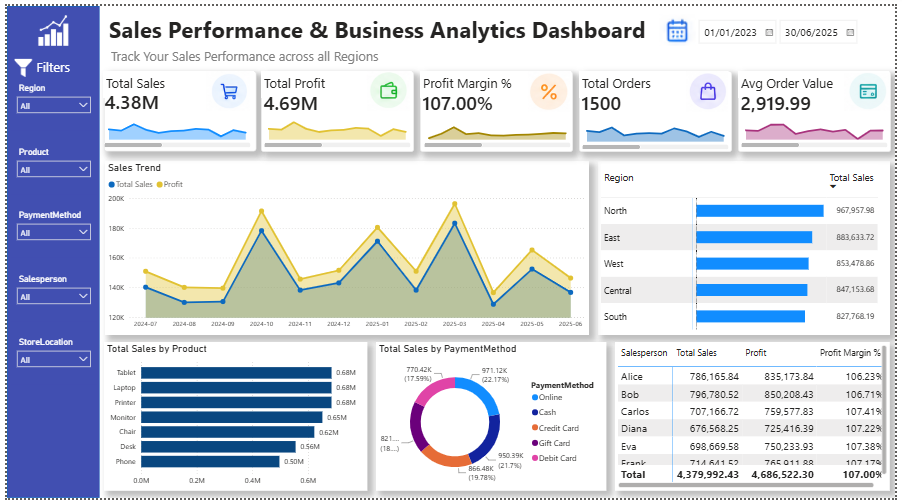

Layout of this report page (visuals, bound fields, positions):
{"tool":"powerbi","page":{"name":"Page 1","canvas":[1480,820],"ordinal":0},"visuals":[{"type":"textbox","box":[165.6,8.2,915.1,65.6],"z":0},{"type":"textbox","box":[167.5,63.7,727.3,44.6],"z":1000},{"type":"shape","box":[0,0,154.4,819.6],"z":2000},{"type":"shape","box":[161.2,108.8,254.4,134],"z":3000},{"type":"shape","box":[422.9,108.2,254.6,135.3],"z":4000},{"type":"shape","box":[688.3,108.2,254.6,135.3],"z":5000},{"type":"shape","box":[953.6,108.2,254.6,135.3],"z":6000},{"type":"shape","box":[1219,108.2,254.6,135.3],"z":7000},{"type":"textbox","box":[159.3,108.8,223.4,44.7],"z":8000},{"type":"textbox","box":[423.3,108.2,222.8,44.6],"z":9000},{"type":"textbox","box":[689.1,108.2,222.8,44.6],"z":10000},{"type":"textbox","box":[953.2,108.2,222.8,44.6],"z":11000},{"type":"textbox","box":[1219,108.2,222.8,44.6],"z":12000},{"type":"cardVisual","fields":{"Data":["Measure.Total Sales"]},"box":[134,122.4,174.8,71.9],"z":13000},{"type":"cardVisual","fields":{"Data":["Measure.Profit"]},"box":[397.8,122.5,173.5,71.6],"z":14000},{"type":"cardVisual","fields":{"Data":["Measure.Profit Margin %"]},"box":[663.6,122.5,184.6,71.6],"z":15000},{"type":"cardVisual","fields":{"Data":["Measure.Total Orders"]},"box":[927.8,122.5,173.5,71.6],"z":16000},{"type":"cardVisual","fields":{"Data":["Measure.Avg Order Value"]},"box":[1193.5,124.1,202.1,71.6],"z":17000},{"type":"image","box":[331,108.2,81.2,68.4],"z":18000},{"type":"image","box":[596.8,108.2,81.2,68.4],"z":19000},{"type":"image","box":[862.5,108.2,81.2,68.4],"z":20000},{"type":"image","box":[1126.7,108.2,81.2,68.4],"z":21000},{"type":"image","box":[1392.5,108.2,81.2,68.4],"z":22000},{"type":"areaChart","fields":{"Category":["DateTable.Year Month"],"Y":["Measure.Total Sales"]},"box":[157.3,176.7,254.4,64.1],"z":23000},{"type":"areaChart","fields":{"Category":["DateTable.Year Month"],"Y":["Measure.Profit"]},"box":[423.4,176.7,254.4,64.1],"z":24000},{"type":"areaChart","fields":{"Category":["DateTable.Year Month"],"Y":["Measure.Profit Margin %"]},"box":[689.5,176.7,254.4,64.1],"z":25000},{"type":"areaChart","fields":{"Category":["DateTable.Year Month"],"Y":["Measure.Total Orders"]},"box":[953.6,180.6,254.4,64.1],"z":26000},{"type":"areaChart","fields":{"Category":["DateTable.Year Month"],"Y":["Measure.Avg Order Value"]},"box":[1217.8,176.7,254.4,64.1],"z":27000},{"type":"areaChart","title":"Sales Trend","fields":{"Category":["DateTable.Year Month"],"Y":["Measure.Total Sales","Measure.Profit"]},"box":[163.9,257.8,806.8,289.6],"z":28000},{"type":"pivotTable","fields":{"Rows":["Sheet1.Region"],"Values":["Measure.Sales Bar","Measure.Total Sales"]},"box":[985.1,257.8,487,289.6],"z":29000},{"type":"clusteredBarChart","fields":{"Category":["Sheet1.Product"],"Y":["Measure.Total Sales"]},"box":[162.3,560.2,439.2,248.3],"z":30000},{"type":"donutChart","fields":{"Category":["Sheet1.PaymentMethod"],"Y":["Measure.Total Sales"]},"box":[614.3,560.2,383.5,248.3],"z":31000},{"type":"pivotTable","fields":{"Rows":["Sheet1.Salesperson"],"Values":["Measure.Total Sales","Measure.Profit","Measure.Profit Margin %"]},"box":[1013.7,560.2,458.3,248.3],"z":32000},{"type":"slicer","fields":{"Values":["Sheet1.Region"]},"box":[6.4,124.1,143.2,84.3],"z":33000},{"type":"slicer","fields":{"Values":["Sheet1.Product"]},"box":[6.4,230,143.2,84.3],"z":34000},{"type":"slicer","fields":{"Values":["Sheet1.PaymentMethod"]},"box":[6.4,335.8,143.2,84.3],"z":35000},{"type":"slicer","fields":{"Values":["Sheet1.Salesperson"]},"box":[6.4,441.6,143.2,84.3],"z":36000},{"type":"slicer","fields":{"Values":["Sheet1.StoreLocation"]},"box":[6.4,547.4,143.2,84.3],"z":37000},{"type":"textbox","box":[30.2,81.2,93.9,43],"z":38000},{"type":"image","box":[6.4,85.9,41.4,33.4],"z":39000},{"type":"image","box":[33.4,12.7,87.5,52.5],"z":40000},{"type":"slicer","fields":{"Values":["Sheet1.Date"]},"box":[1139.4,12.7,310.3,52.5],"z":41000},{"type":"image","box":[1080.6,12.7,74.8,52.5],"z":42000}]}

Visuals, with their boxes in screenshot pixels (x1, y1, x2, y2), scaled from the page's 1480x820 canvas onto the 902x504 screenshot:
textbox: bbox(101, 5, 659, 45)
textbox: bbox(102, 39, 545, 67)
shape: bbox(0, 0, 94, 503)
shape: bbox(98, 67, 253, 149)
shape: bbox(258, 67, 413, 150)
shape: bbox(419, 67, 575, 150)
shape: bbox(581, 67, 736, 150)
shape: bbox(743, 67, 898, 150)
textbox: bbox(97, 67, 233, 94)
textbox: bbox(258, 67, 394, 94)
textbox: bbox(420, 67, 556, 94)
textbox: bbox(581, 67, 717, 94)
textbox: bbox(743, 67, 879, 94)
cardVisual - Measure.Total Sales: bbox(82, 75, 188, 119)
cardVisual - Measure.Profit: bbox(242, 75, 348, 119)
cardVisual - Measure.Profit Margin %: bbox(404, 75, 517, 119)
cardVisual - Measure.Total Orders: bbox(565, 75, 671, 119)
cardVisual - Measure.Avg Order Value: bbox(727, 76, 851, 120)
image: bbox(202, 67, 251, 109)
image: bbox(364, 67, 413, 109)
image: bbox(526, 67, 575, 109)
image: bbox(687, 67, 736, 109)
image: bbox(849, 67, 898, 109)
areaChart - DateTable.Year Month x Measure.Total Sales: bbox(96, 109, 251, 148)
areaChart - DateTable.Year Month x Measure.Profit: bbox(258, 109, 413, 148)
areaChart - DateTable.Year Month x Measure.Profit Margin %: bbox(420, 109, 575, 148)
areaChart - DateTable.Year Month x Measure.Total Orders: bbox(581, 111, 736, 150)
areaChart - DateTable.Year Month x Measure.Avg Order Value: bbox(742, 109, 897, 148)
"Sales Trend" areaChart: bbox(100, 158, 592, 336)
pivotTable - Sheet1.Region x Measure.Sales Bar: bbox(600, 158, 897, 336)
clusteredBarChart - Sheet1.Product x Measure.Total Sales: bbox(99, 344, 367, 497)
donutChart - Sheet1.PaymentMethod x Measure.Total Sales: bbox(374, 344, 608, 497)
pivotTable - Sheet1.Salesperson x Measure.Total Sales: bbox(618, 344, 897, 497)
slicer - Sheet1.Region: bbox(4, 76, 91, 128)
slicer - Sheet1.Product: bbox(4, 141, 91, 193)
slicer - Sheet1.PaymentMethod: bbox(4, 206, 91, 258)
slicer - Sheet1.Salesperson: bbox(4, 271, 91, 323)
slicer - Sheet1.StoreLocation: bbox(4, 336, 91, 388)
textbox: bbox(18, 50, 76, 76)
image: bbox(4, 53, 29, 73)
image: bbox(20, 8, 74, 40)
slicer - Sheet1.Date: bbox(694, 8, 884, 40)
image: bbox(659, 8, 704, 40)
